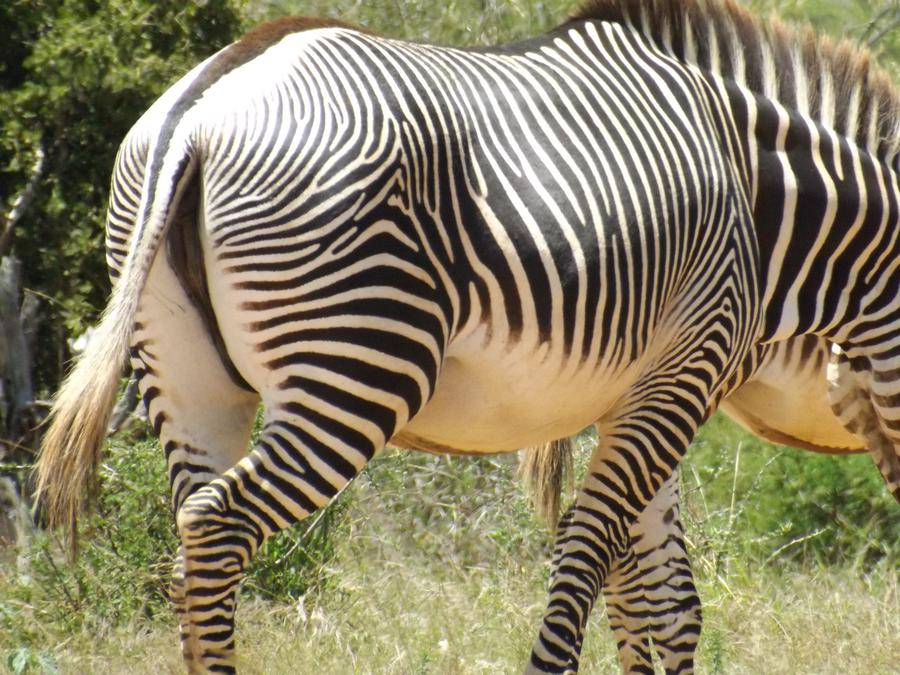zebra_grevys: (139, 9, 729, 407)
